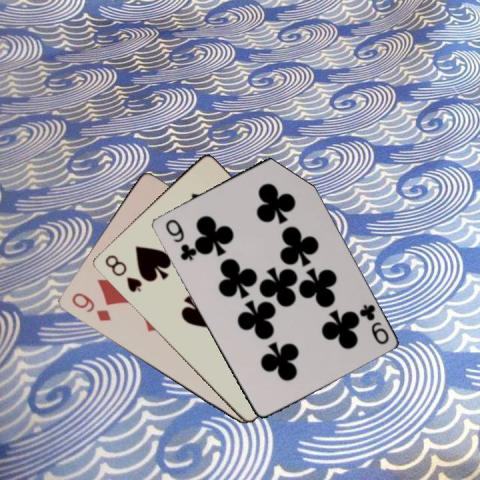8s: (101, 251, 144, 294)
9c: (355, 301, 390, 346), (162, 216, 195, 262)
9d: (68, 290, 113, 324)
